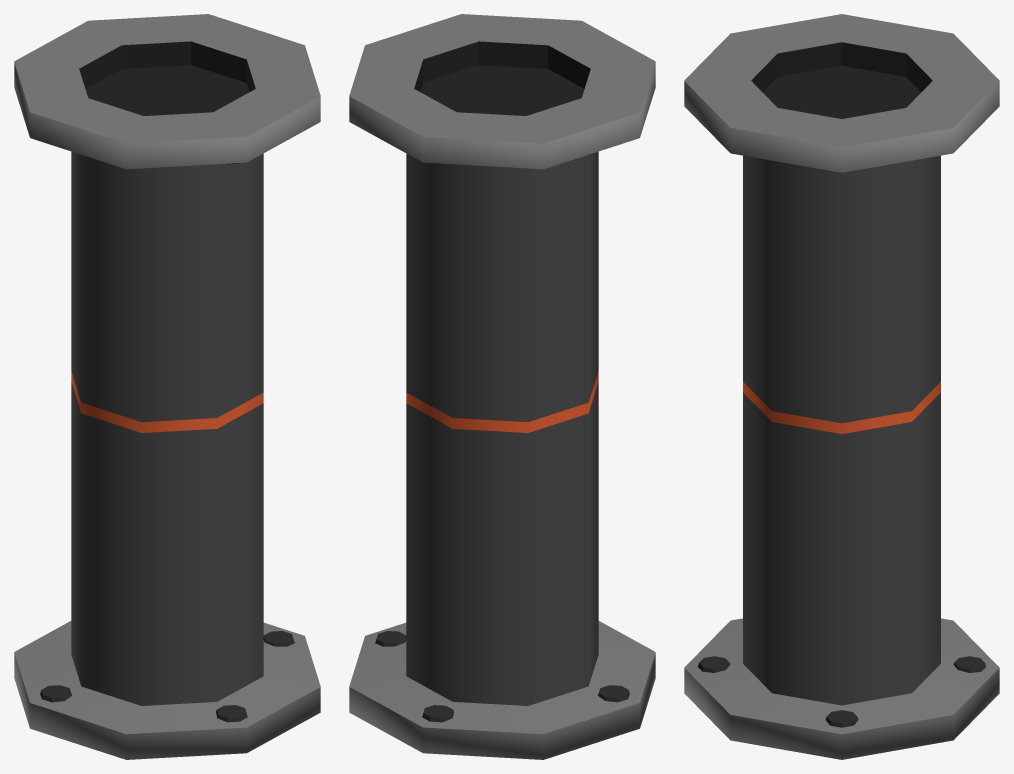
Rendered from Pipe_Straight_05M_01.glb.
3 renders of one model, left to right at view 1: azimuth 30°, elevation 25°; view 2: azimuth 150°, elevation 25°; view 3: azimuth 270°, elevation 25°, orthographic.
Visible parts, largest first — view 1: Pipe_Straight_05M_01; view 2: Pipe_Straight_05M_01; view 3: Pipe_Straight_05M_01.
Part boxes in pixels (x1=…): Pipe_Straight_05M_01: x1=14, y1=14, x2=320, y2=759; Pipe_Straight_05M_01: x1=349, y1=14, x2=655, y2=759; Pipe_Straight_05M_01: x1=684, y1=14, x2=999, y2=759.
Size of what is drawn, in the model's own units: 0.35 by 0.7499 by 0.35.
Materials: 1 (1 with a texture image).
